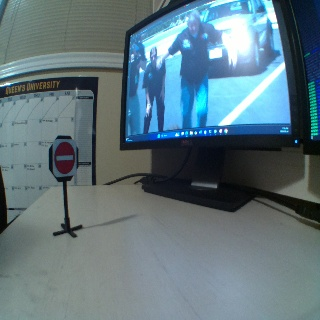sign_noentry: (52, 141, 76, 176)
